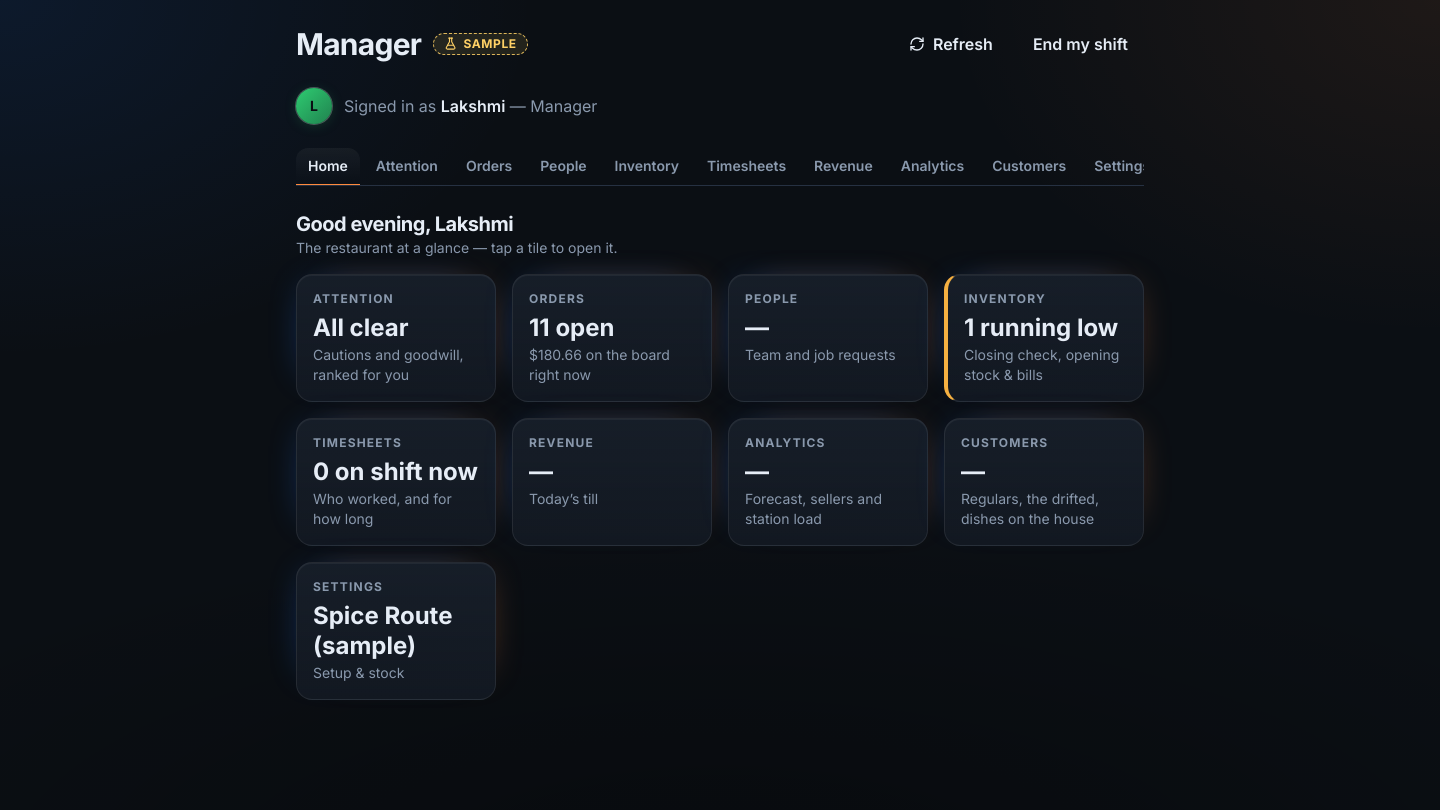
Scenario: the_manager_on_shift_can_release_a_slot
The width and height of the screenshot is (1440, 810).
# the readiness card (with its Release buttons) lives in Attention
Click the tab "Attention" at (407, 167), box left=364, top=148, right=450, bottom=186
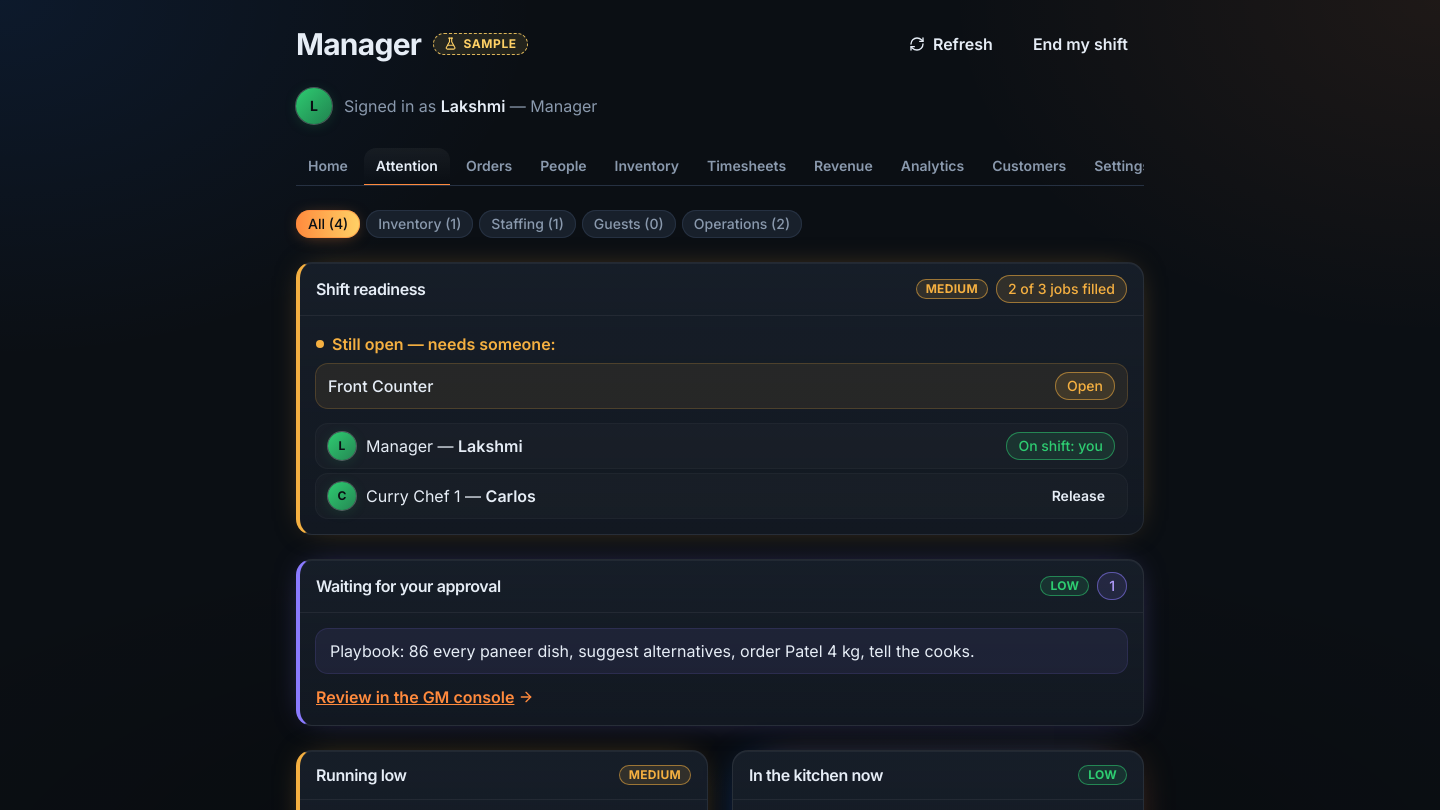
Click the button "Release" at (1078, 496), box left=1042, top=482, right=1115, bottom=510
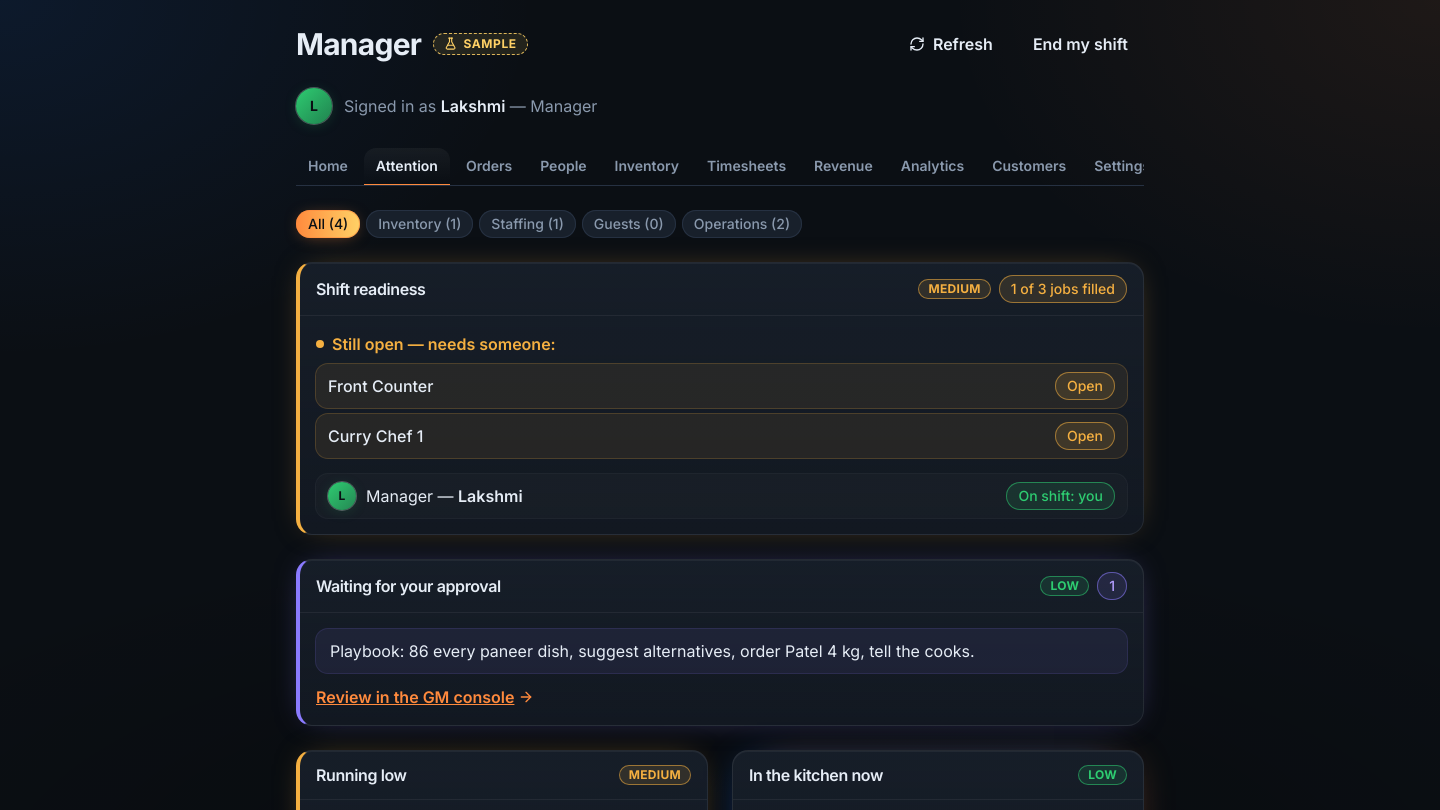
Check: the text "1 of 3 jobs filled" is shown, box left=999, top=275, right=1127, bottom=303
